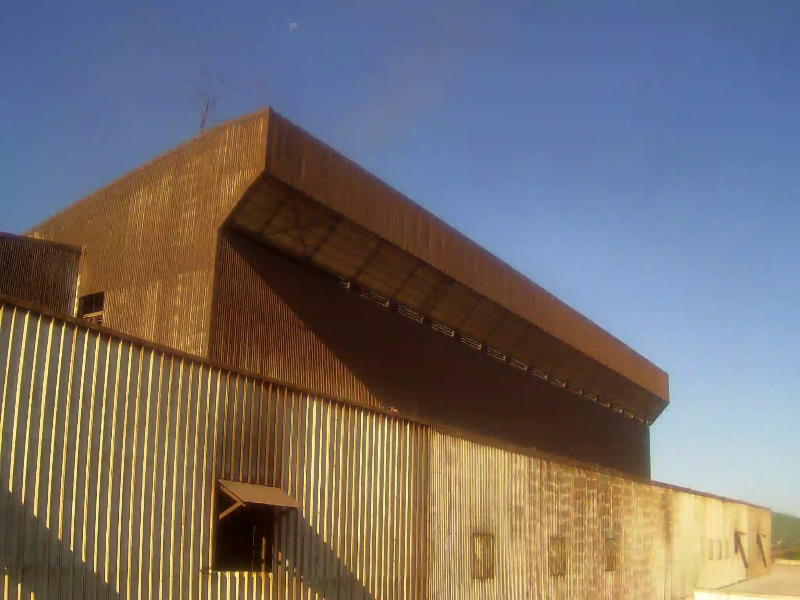bom: (252, 37, 671, 424), (604, 230, 794, 486), (14, 17, 277, 176)
